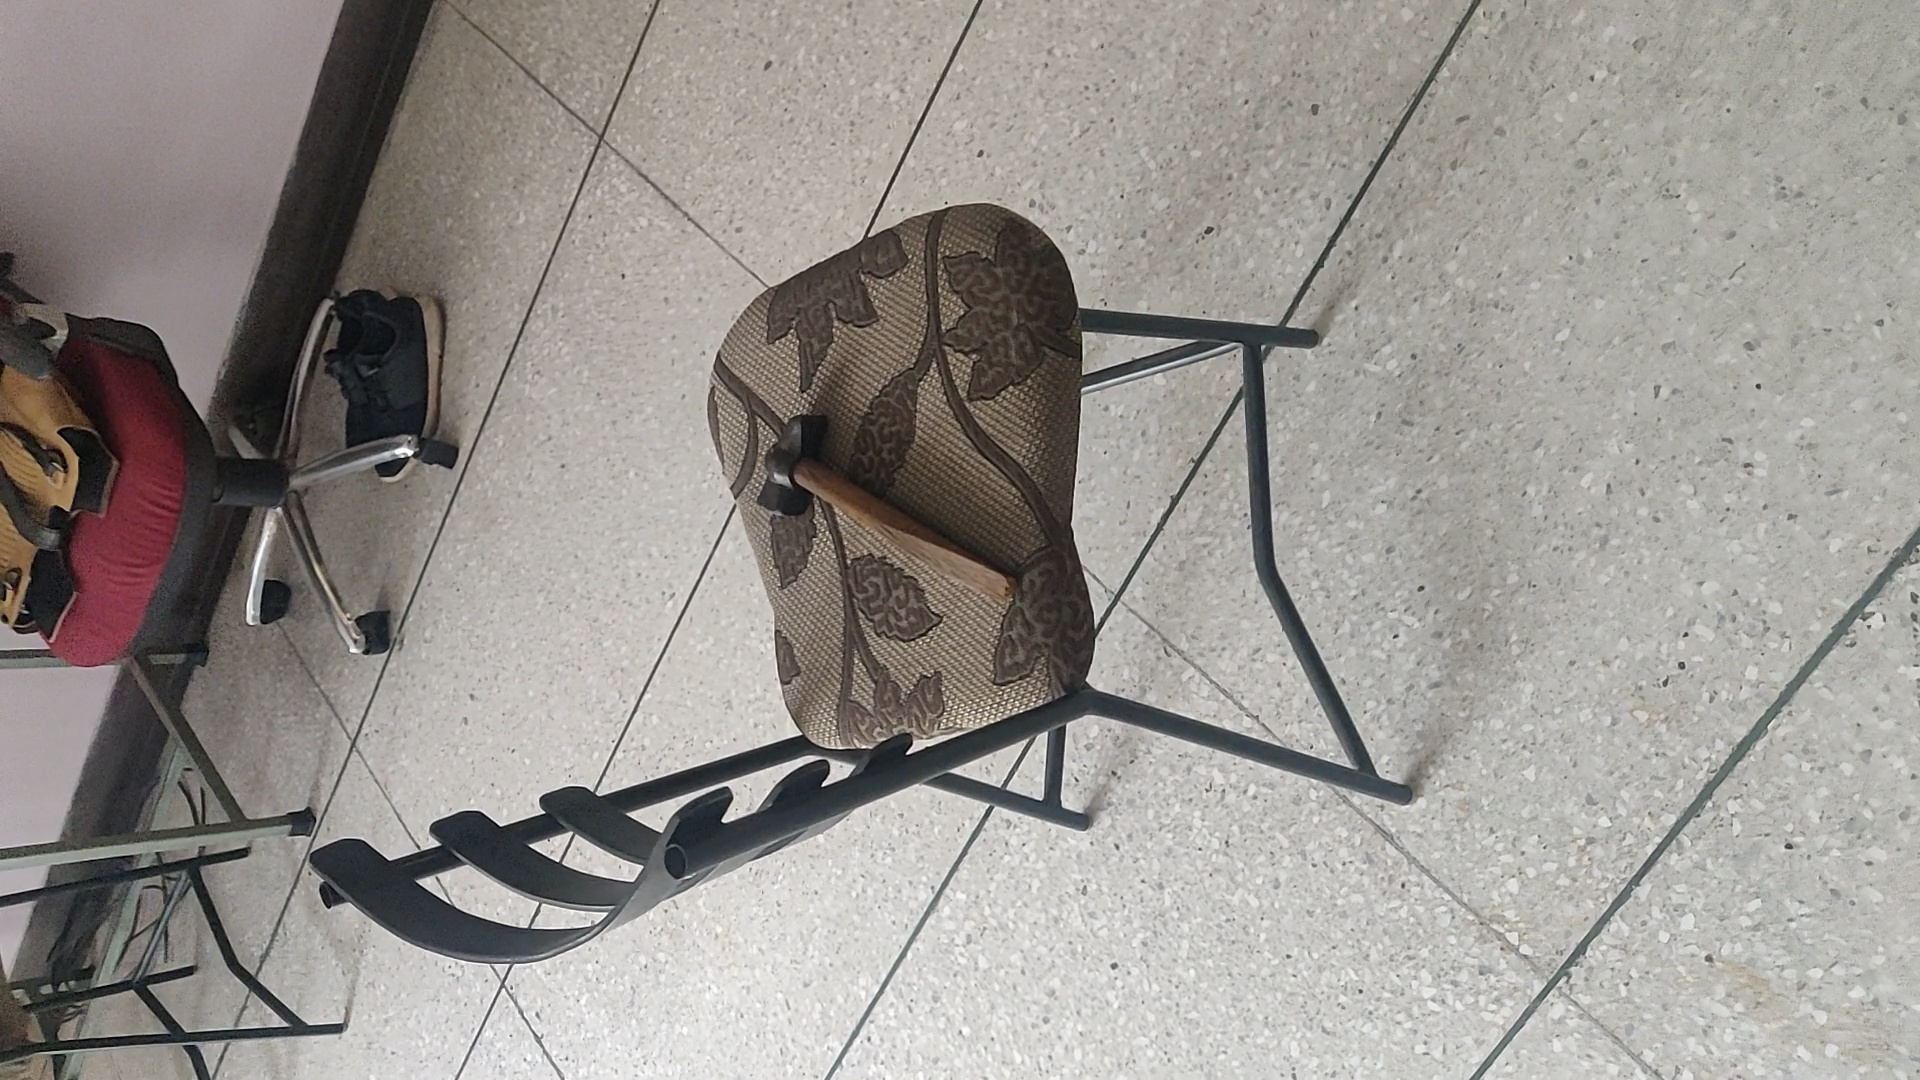hammer: (754, 411, 1011, 605)
